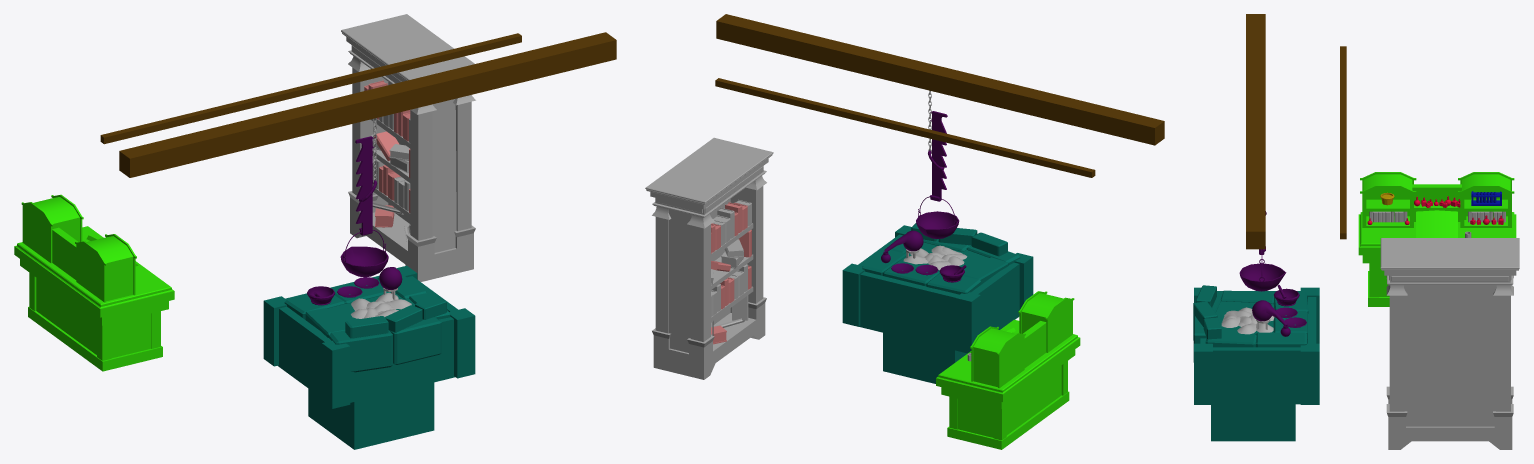
File: Alchemist.fbx
The picture shows the model from 3 angles, left to right: view 1: azimuth 30°, elevation 25°; view 2: azimuth 150°, elevation 25°; view 3: azimuth 270°, elevation 25°; orthographic projection. The views are drawn at different scales.
Parts seen in each view (by area): view 1: AlchemyTable, Wood, Bookshelf, AlchemistTable, BooksVar, PotElevator, Books, Pot, Coal; view 2: Bookshelf, AlchemyTable, Wood, AlchemistTable, Books, BooksVar, PotElevator, Pot, Coal; view 3: Bookshelf, AlchemyTable, AlchemistTable, Wood, Pot, Coal, Books, Potions, Distiller, Vials, Mortar.
Boxes of the visible parts, x1,y1,x2,y2 form: AlchemyTable: (263, 265, 475, 449); Wood: (100, 32, 616, 177); Bookshelf: (341, 14, 475, 281); AlchemistTable: (14, 194, 174, 371); BooksVar: (364, 80, 410, 227); PotElevator: (355, 136, 377, 235); Books: (370, 114, 410, 211); Pot: (340, 230, 388, 277); Coal: (351, 292, 411, 318); Bookshelf: (645, 137, 773, 379); AlchemyTable: (842, 223, 1033, 383); Wood: (715, 14, 1164, 177); AlchemistTable: (936, 291, 1080, 449); Books: (711, 199, 751, 320); BooksVar: (711, 202, 751, 344); PotElevator: (928, 111, 947, 201); Pot: (916, 196, 959, 238); Coal: (903, 245, 967, 270); Bookshelf: (1380, 238, 1519, 449); AlchemyTable: (1193, 285, 1319, 441); AlchemistTable: (1358, 172, 1516, 306); Wood: (1246, 14, 1346, 249); Pot: (1239, 249, 1286, 291); Coal: (1221, 307, 1274, 334); Books: (1369, 211, 1505, 222); Potions: (1367, 196, 1503, 224); Distiller: (1252, 300, 1286, 325); Vials: (1471, 191, 1501, 205); Mortar: (1274, 288, 1299, 306).
Size of the model in its own units: 8.69 by 5.59 by 5.52.
